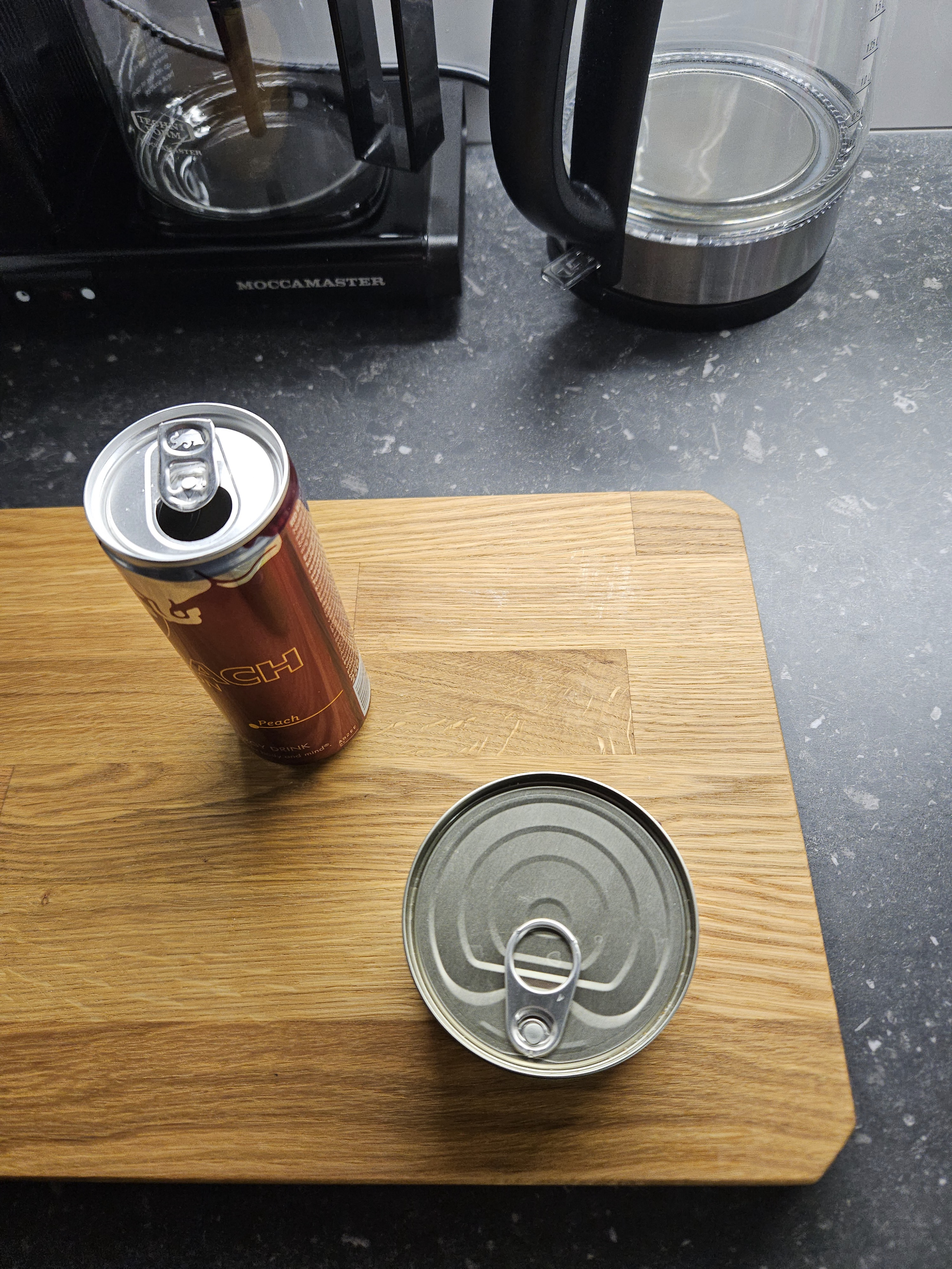Konservburk: (388, 758, 708, 1084)
Pantburk: (59, 395, 374, 770)
